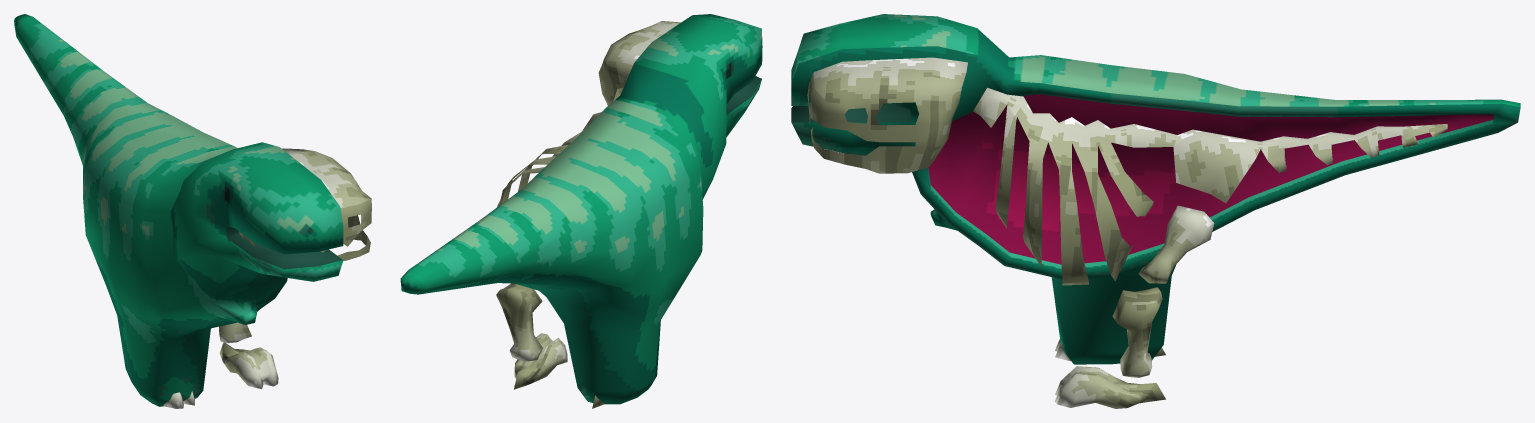
File: trex.dae
3 renders of one model, left to right at view 1: azimuth 30°, elevation 25°; view 2: azimuth 150°, elevation 25°; view 3: azimuth 270°, elevation 25°, orthographic. The views are drawn at different scales.
Visible parts, largest first — view 1: body, skull, Cube, lower_leg_bone; view 2: body, skull, lower_leg_bone, Cube, skeleton; view 3: body, skeleton, skull, Cube, lower_leg_bone, upp_leg_bone.
Boxes of the visible parts, x1,y1,x2,y2 form: body: [14, 14, 343, 406]; skull: [239, 148, 371, 261]; Cube: [163, 342, 278, 408]; lower_leg_bone: [219, 322, 251, 343]; body: [400, 14, 762, 404]; skull: [598, 21, 680, 105]; lower_leg_bone: [496, 283, 542, 361]; Cube: [514, 333, 604, 408]; skeleton: [497, 112, 601, 206]; body: [791, 14, 1520, 364]; skeleton: [973, 87, 1447, 285]; skull: [807, 57, 967, 173]; Cube: [1054, 339, 1165, 408]; lower_leg_bone: [1112, 287, 1162, 377]; upp_leg_bone: [1138, 205, 1214, 283].
Size of the model in its own units: 0.8162 by 2.62 by 1.31.
1 material, 1 textured.
